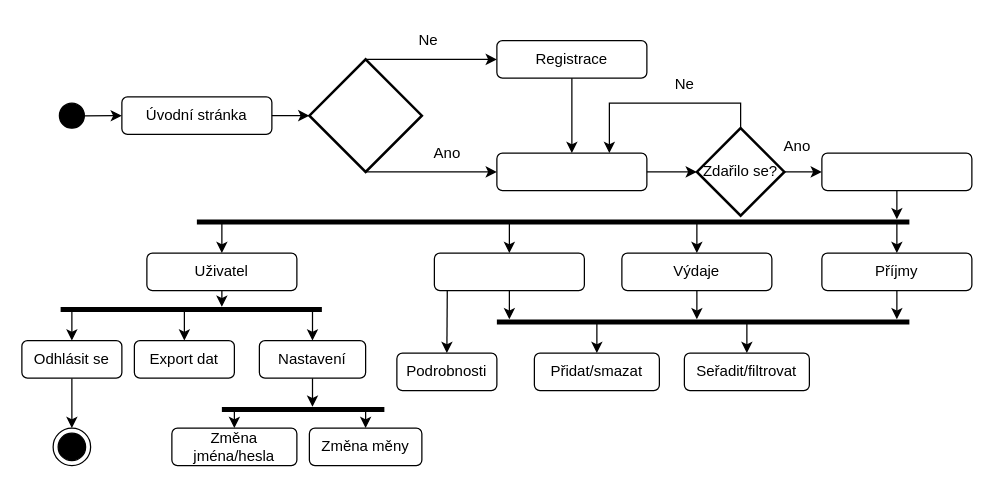
Some shapes in this 994 by 488 pixel diagram are drawn without their labels. Here are the shapes that lost their labels. From the top down, the centre of each, then its label:
At [365,115]: "Existuje účet?".
At [571,171]: "Přihlásit se".
At [896,171]: "Domů".
At [508,271]: "Rozpočty".
